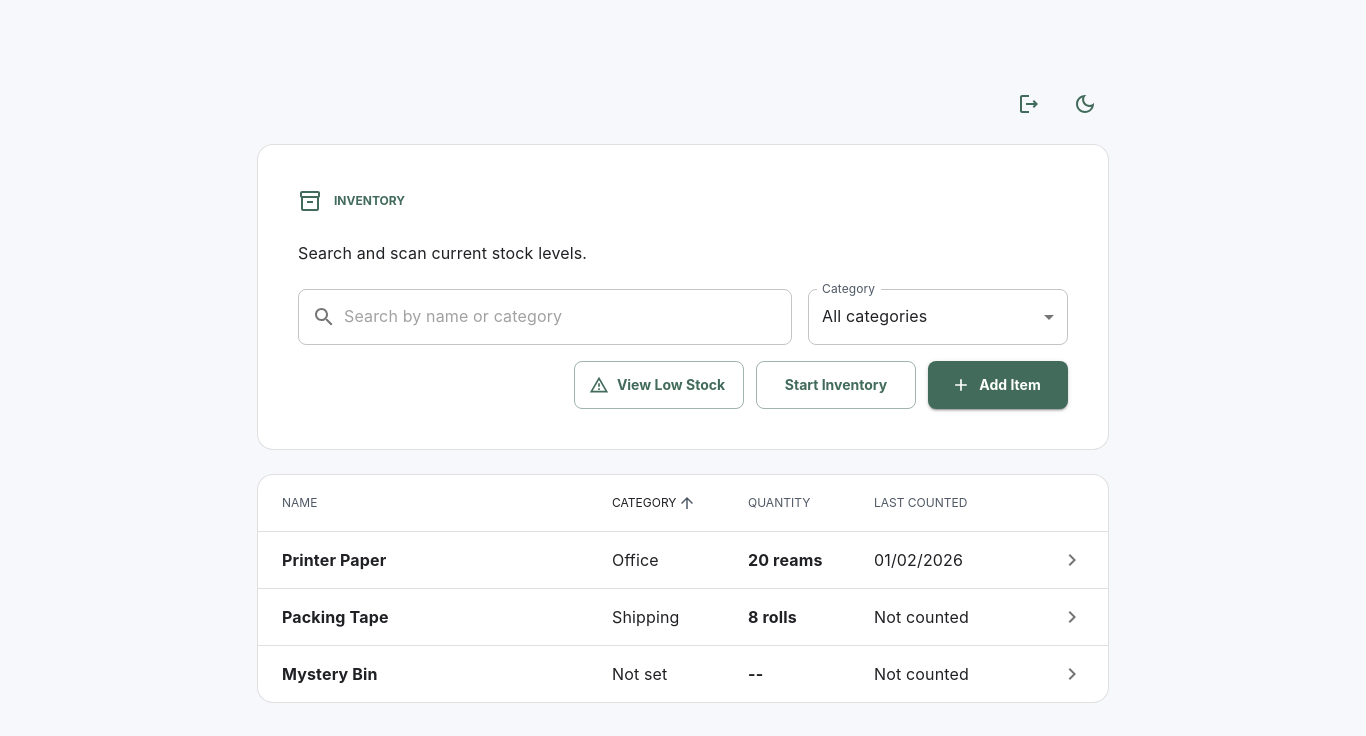
Test: HomePage › rejects invalid counted quantities before submitting
Expected: the text "Printer Paper" is shown, [282,550,386,570]
Click the button "Start Inventory" at (836, 385), box [756,361,916,409]
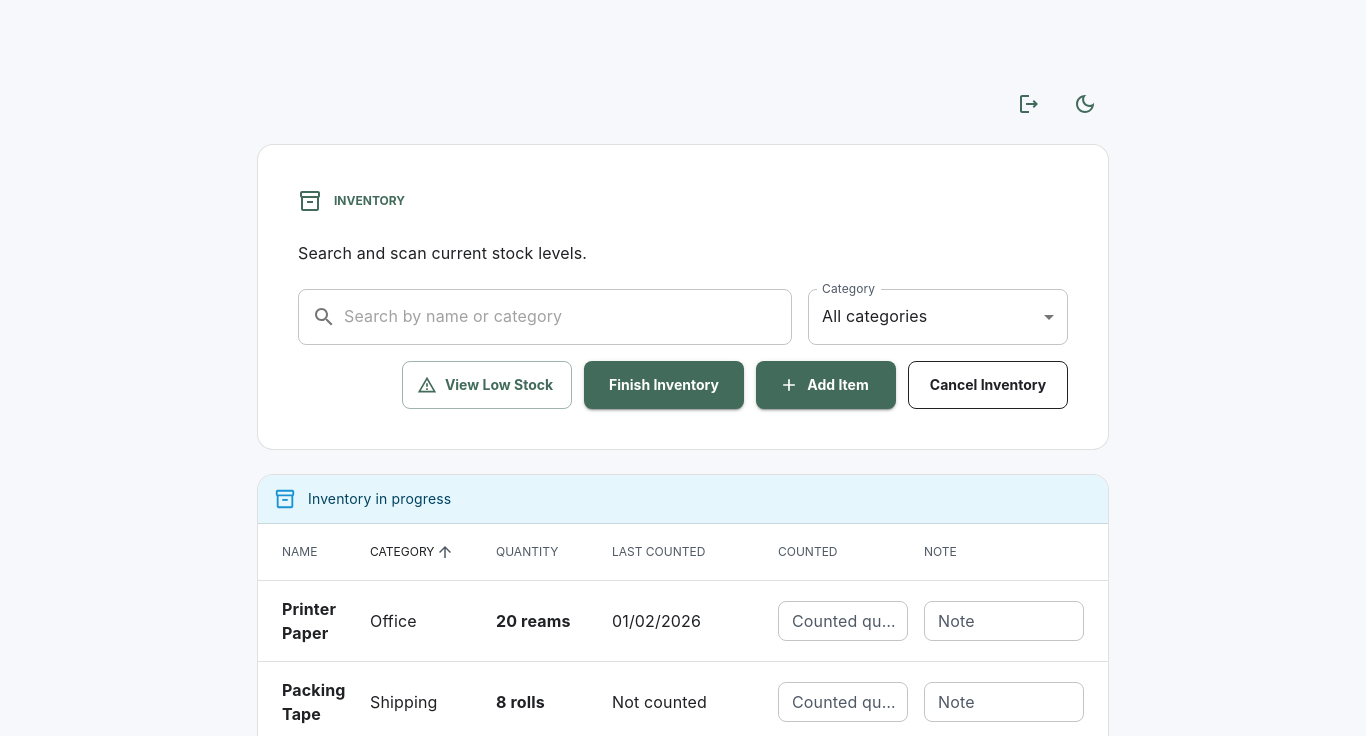
Type "-1" into the number field named "Counted quantity for Printer Paper" at (843, 621), box [778,601,908,641]
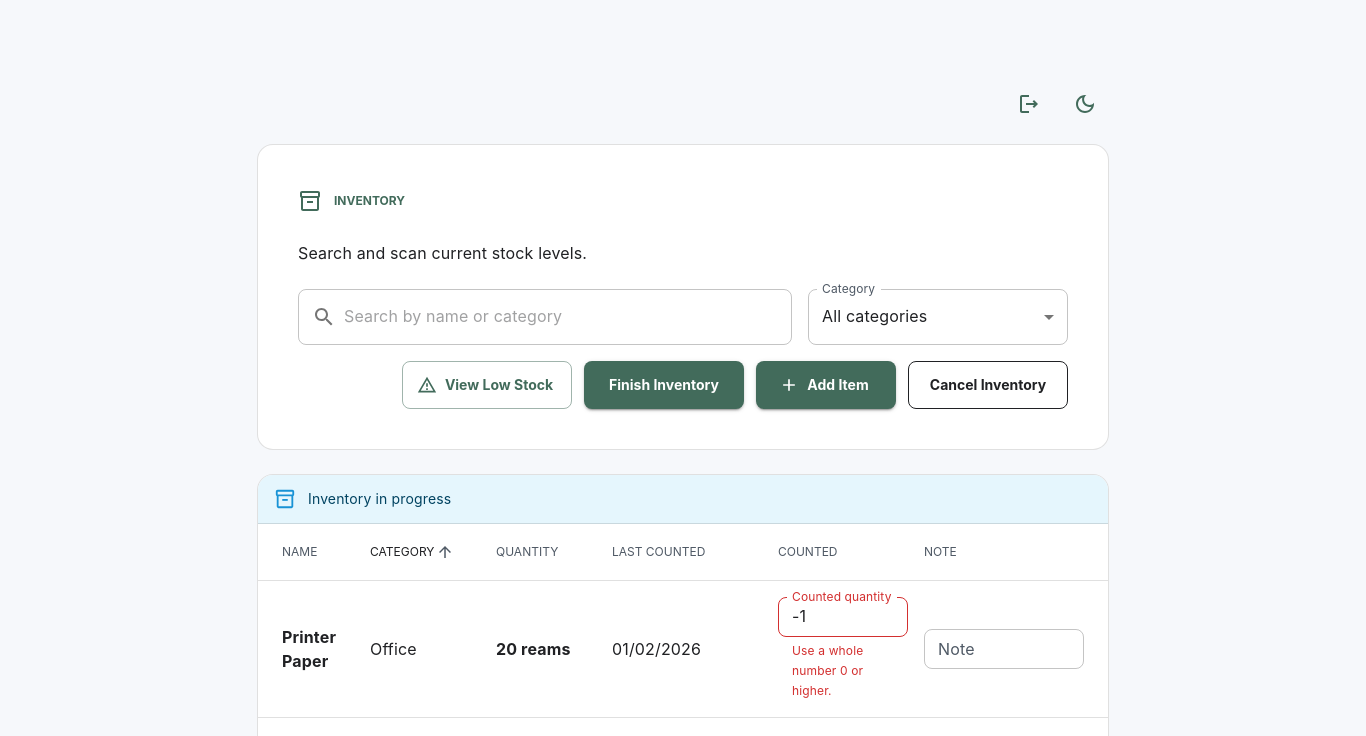
Expected: the text "Use a whole number 0 or higher." is shown, [792,643,863,698]
Click the button "Finish Inventory" at (664, 385), box [584,361,744,409]
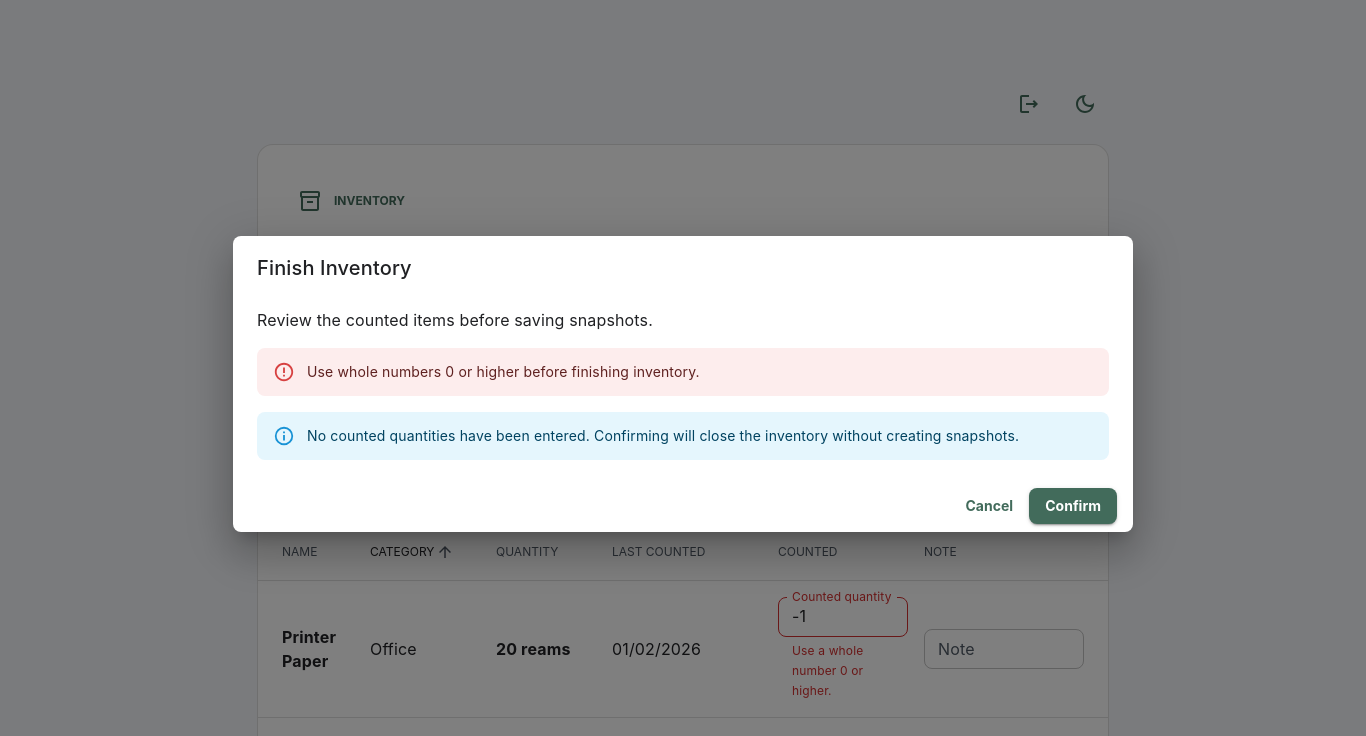
Click the button "Confirm" at (1073, 506), box [1029,488,1117,524]
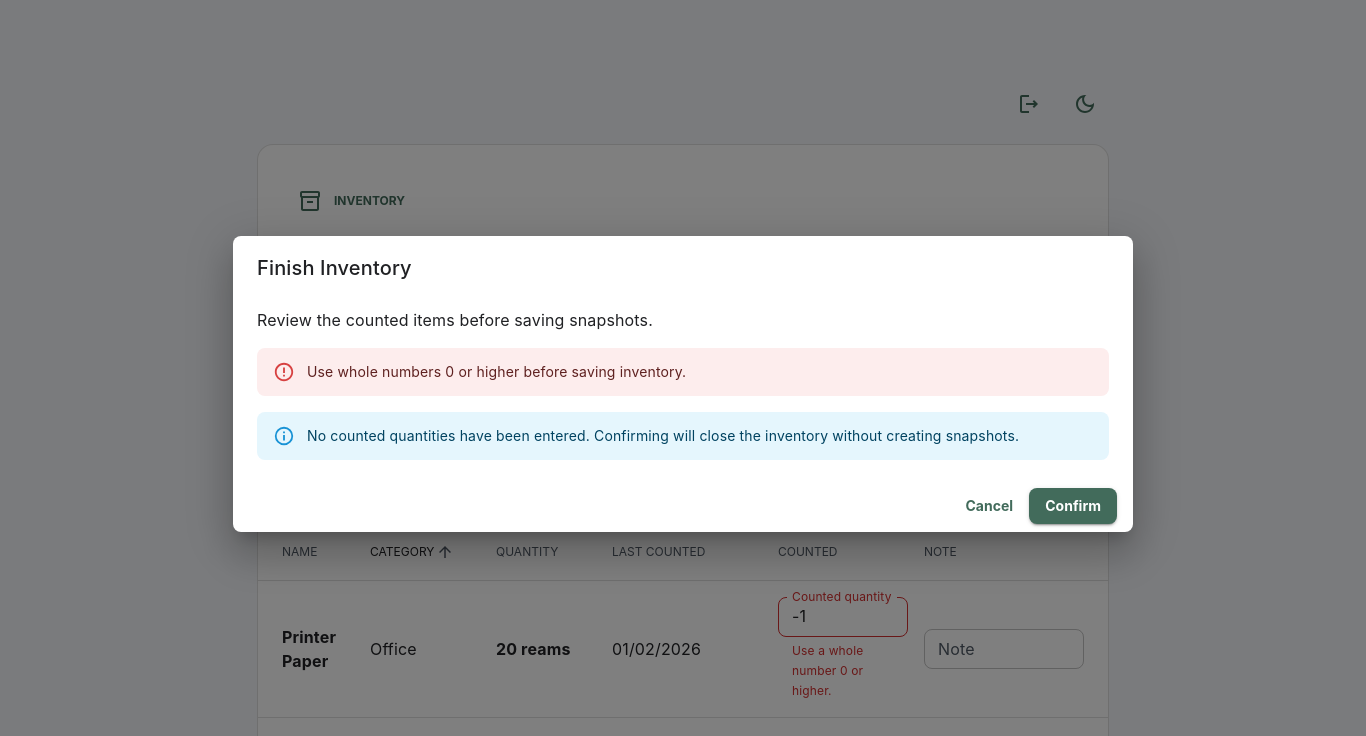
Expected: the text "Use whole numbers 0 or higher before saving inventory." is shown, [307,363,686,380]
